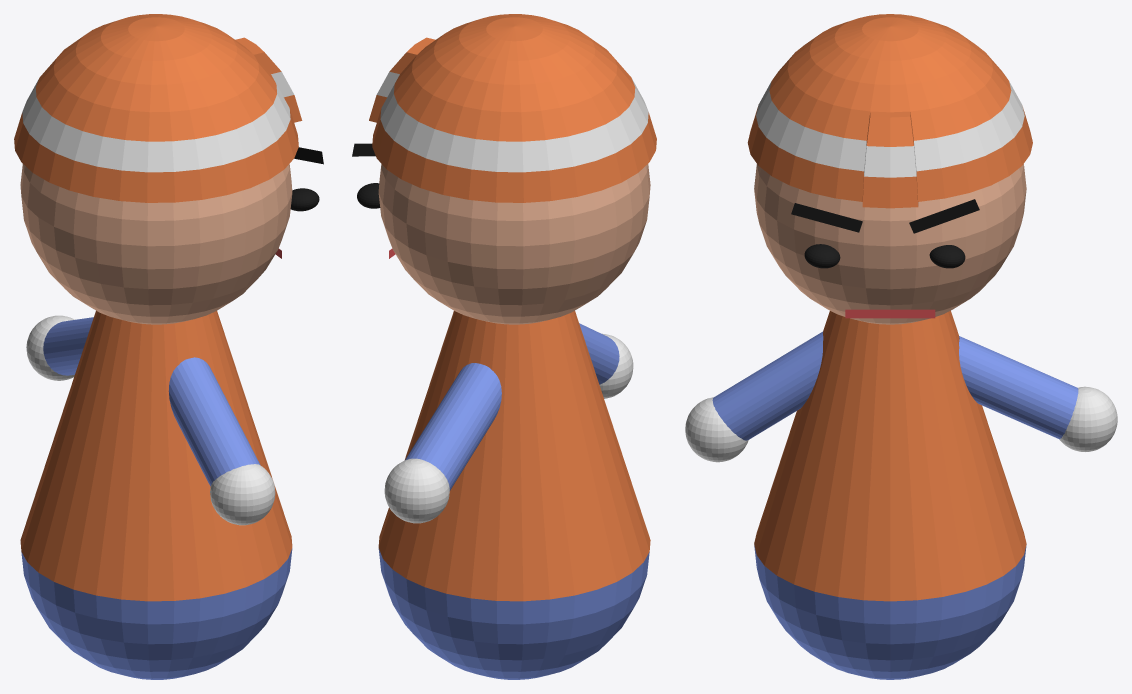
File: FireMan.fbx
3 views of the same model, side by side, from view 1: azimuth 30°, elevation 25°; view 2: azimuth 150°, elevation 25°; view 3: azimuth 270°, elevation 25° (orthographic).
Parts seen in each view (by area): view 1: 球, 球.006, 球.003, 円柱.002, 球.002, 円柱.001, 球.001, 球.004; view 2: 球, 球.006, 球.003, 円柱.001, 球.001, 円柱.002, 球.002, 球.005; view 3: 球, 球.006, 球.003, 円柱.001, 円柱.002, 球.001, 球.002, 平面.002, 平面, 平面.001, 球.004, 球.005.
Part boxes in pixels (box(x1,y1,x2,y2)): 球: box(20, 310, 292, 679); 球.006: box(14, 14, 302, 202); 球.003: box(20, 164, 292, 324); 円柱.002: box(168, 357, 260, 486); 球.002: box(210, 464, 275, 525); 円柱.001: box(43, 317, 93, 375); 球.001: box(26, 315, 74, 380); 球.004: box(290, 188, 319, 211); 球: box(378, 311, 650, 679); 球.006: box(369, 14, 656, 202); 球.003: box(378, 164, 650, 324); 円柱.001: box(405, 363, 501, 490); 球.001: box(384, 458, 449, 523); 円柱.002: box(579, 323, 619, 384); 球.002: box(599, 333, 633, 398); 球.005: box(357, 183, 380, 208); 球: box(754, 310, 1026, 679); 球.006: box(747, 14, 1032, 208); 球.003: box(754, 164, 1026, 324); 円柱.001: box(959, 336, 1078, 439); 円柱.002: box(712, 331, 823, 440); 球.001: box(1059, 386, 1117, 451); 球.002: box(685, 397, 748, 462); 平面.002: box(845, 309, 935, 318); 平面: box(791, 203, 862, 232); 平面.001: box(909, 199, 979, 233); 球.004: box(804, 244, 840, 268); 球.005: box(929, 245, 965, 268).
Size of the model in its own units: 218 by 519 by 317.
